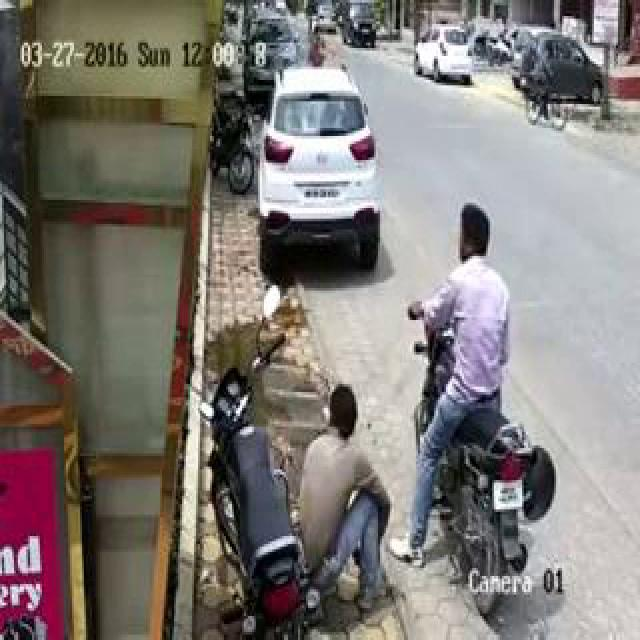stealing: (208, 89, 600, 630)
